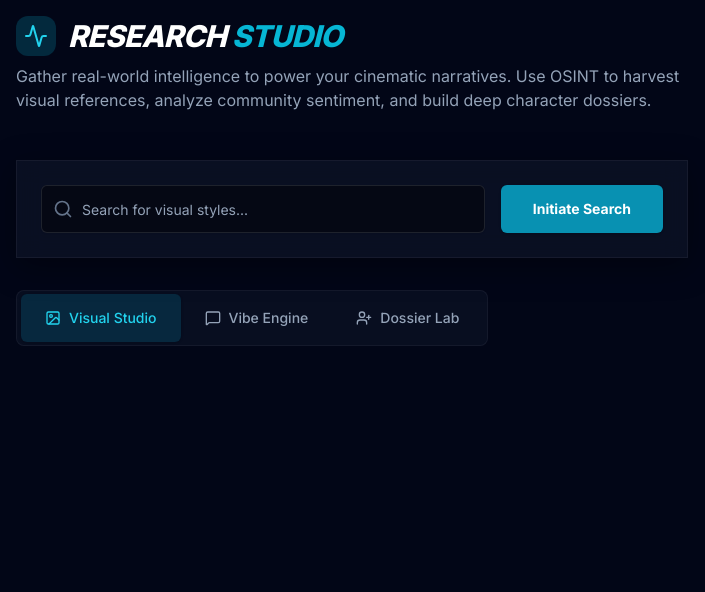
Test: Research Workflow › binary test: passes end-to-end OSINT research workflow (Visual, Vibe, Dossier)
Expected: the tab "Visual Studio" is shown, top-left (21, 294), bottom-right (180, 342)
# Perform search
Type "cyberpunk" into the field with placeholder "Search for visual styles..." at (263, 209), box top-left (41, 185), bottom-right (485, 233)
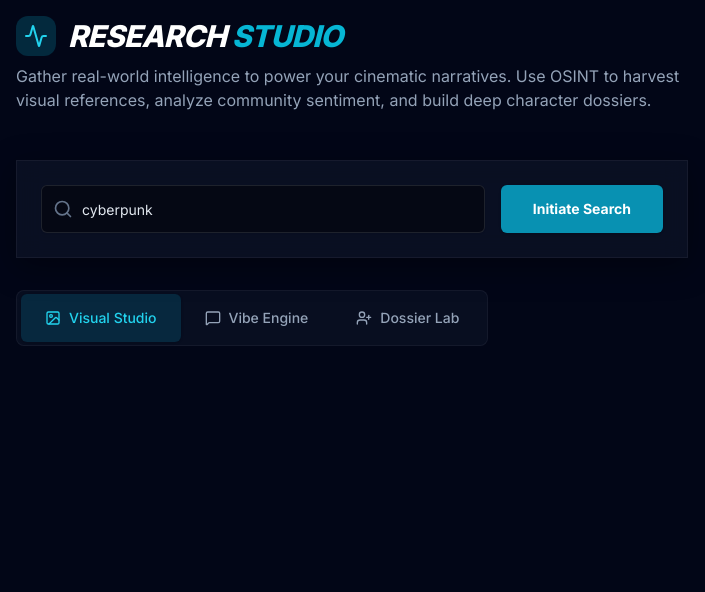
Click the button "Initiate Search" at (582, 209), box top-left (501, 185), bottom-right (663, 233)
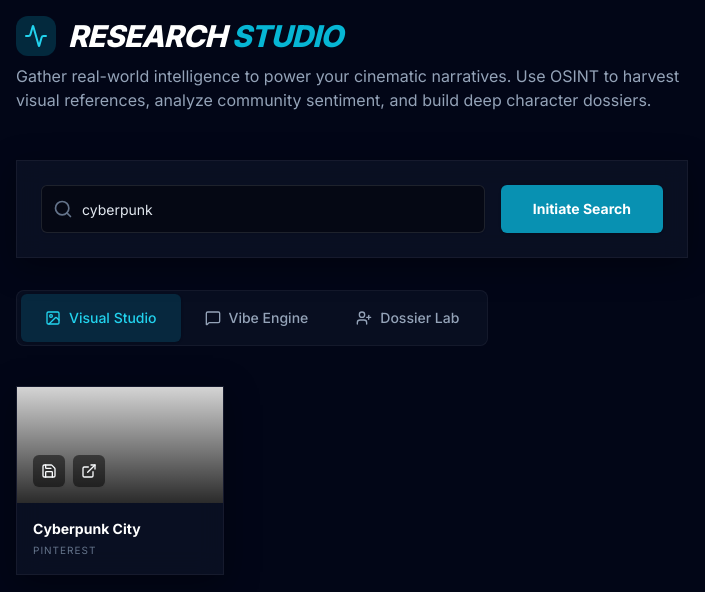
Expected: the heading "Cyberpunk City" is shown, top-left (33, 520), bottom-right (141, 537)
